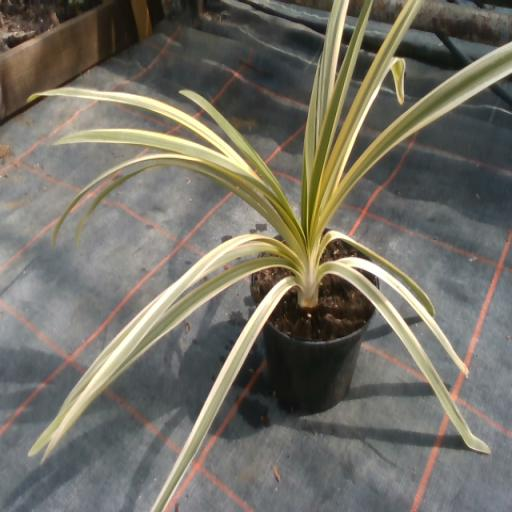Agapanthus-praecox: (30, 236, 258, 458), (317, 43, 511, 229), (152, 277, 296, 511), (322, 261, 490, 452), (320, 0, 422, 196), (29, 87, 255, 175), (122, 256, 283, 368), (52, 154, 252, 244), (75, 162, 271, 244), (344, 257, 467, 373), (181, 91, 283, 197), (314, 0, 372, 170), (321, 230, 434, 315), (56, 130, 255, 175), (317, 0, 348, 134), (302, 68, 318, 223), (434, 329, 466, 369), (391, 58, 405, 103)
